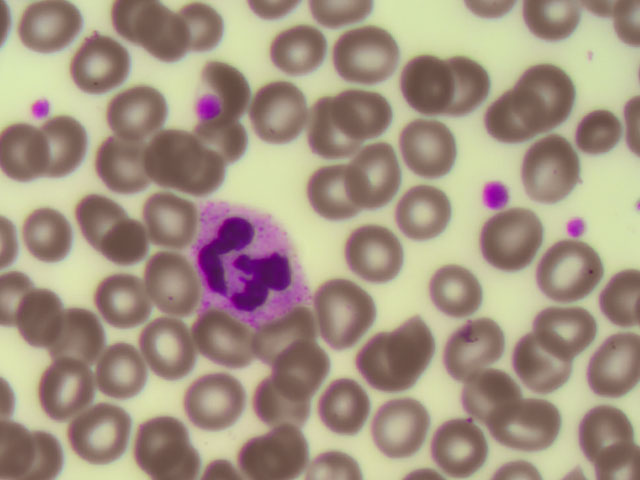Platelets: (480, 180, 509, 209), (27, 97, 58, 122), (557, 211, 588, 235), (193, 95, 221, 118)
RBC: (258, 416, 322, 480), (412, 416, 476, 480), (69, 35, 133, 98), (105, 76, 169, 139), (19, 5, 83, 68), (135, 13, 199, 76), (165, 4, 229, 67), (183, 44, 247, 107), (213, 105, 277, 168), (175, 144, 239, 207), (137, 131, 201, 194), (98, 138, 162, 201), (36, 121, 100, 184), (5, 129, 69, 192), (67, 189, 131, 252), (90, 216, 154, 279), (139, 194, 203, 257), (140, 246, 204, 309), (88, 272, 152, 335), (38, 313, 102, 376), (16, 288, 80, 351), (2, 273, 66, 336), (15, 208, 79, 271), (35, 358, 99, 421), (77, 331, 141, 394), (70, 403, 134, 466), (127, 322, 191, 385), (180, 315, 244, 378), (182, 365, 246, 428), (134, 410, 198, 473), (249, 380, 313, 443), (275, 342, 339, 405), (259, 298, 323, 361), (307, 286, 371, 349), (344, 220, 408, 283), (306, 172, 370, 235), (330, 141, 394, 204), (302, 107, 366, 170), (324, 92, 388, 155), (262, 82, 326, 145), (335, 32, 399, 95), (267, 25, 331, 88), (390, 50, 454, 113), (433, 46, 497, 109), (398, 112, 462, 175), (394, 180, 458, 243), (430, 260, 494, 323), (378, 329, 442, 392), (315, 380, 379, 443), (359, 393, 423, 456), (460, 357, 524, 420), (493, 395, 557, 458), (451, 319, 515, 382), (493, 332, 557, 395), (536, 297, 600, 360), (540, 246, 604, 309), (482, 205, 546, 268), (521, 144, 585, 207), (479, 99, 543, 162), (508, 64, 572, 127), (576, 96, 640, 159), (576, 337, 640, 400), (576, 405, 640, 468), (116, 1, 180, 63)
WBC: (198, 197, 300, 320)
